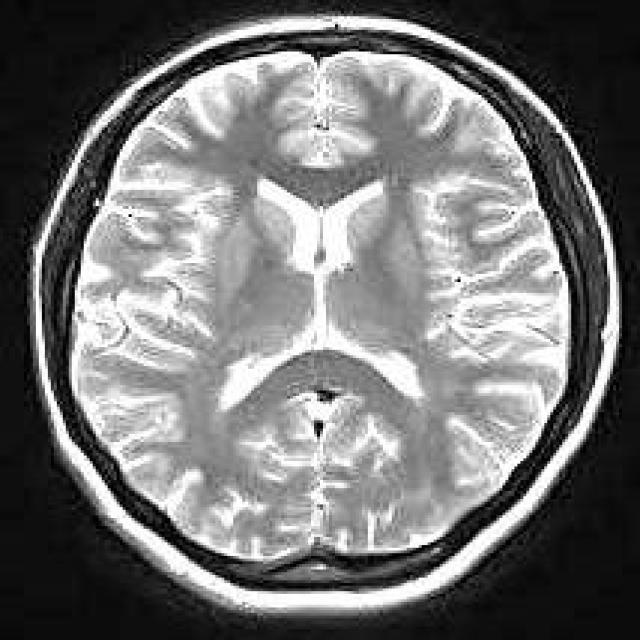No_Tumor: (31, 15, 618, 612)
